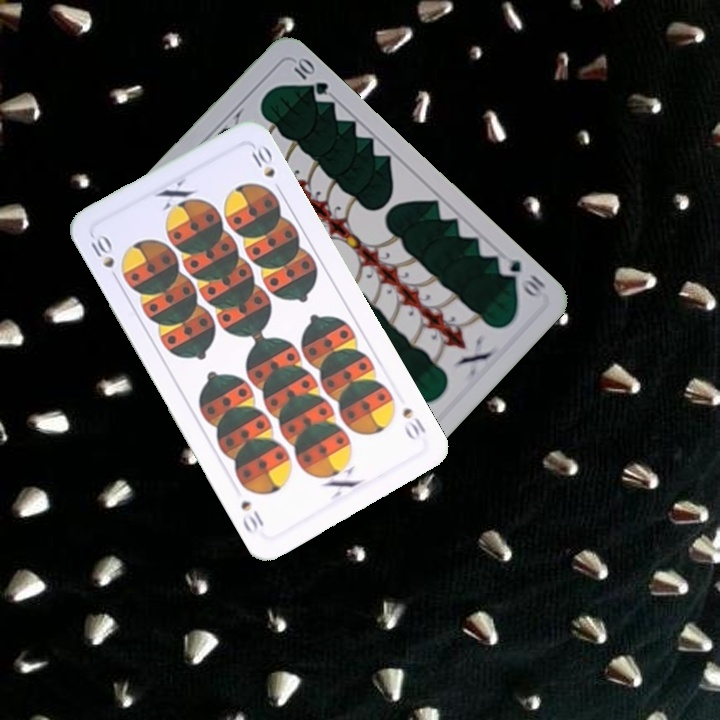G10: (493, 251, 548, 301)
S10: (86, 229, 117, 271), (398, 403, 429, 443)
